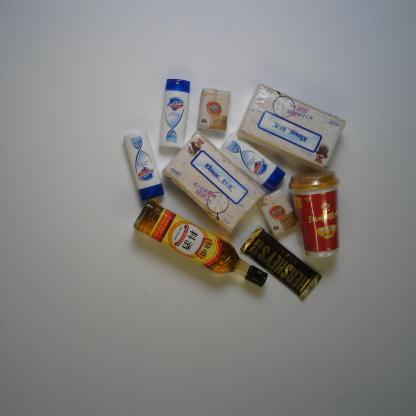Chocolate: (238, 223, 322, 302)
Instant Drink: (286, 167, 344, 259)
Personal Hygiene: (217, 130, 286, 192), (122, 128, 165, 202), (158, 77, 191, 150)
Seasoner: (130, 197, 270, 288)
Tissue: (160, 128, 266, 236), (234, 83, 348, 173), (255, 186, 299, 237), (196, 87, 232, 132)
